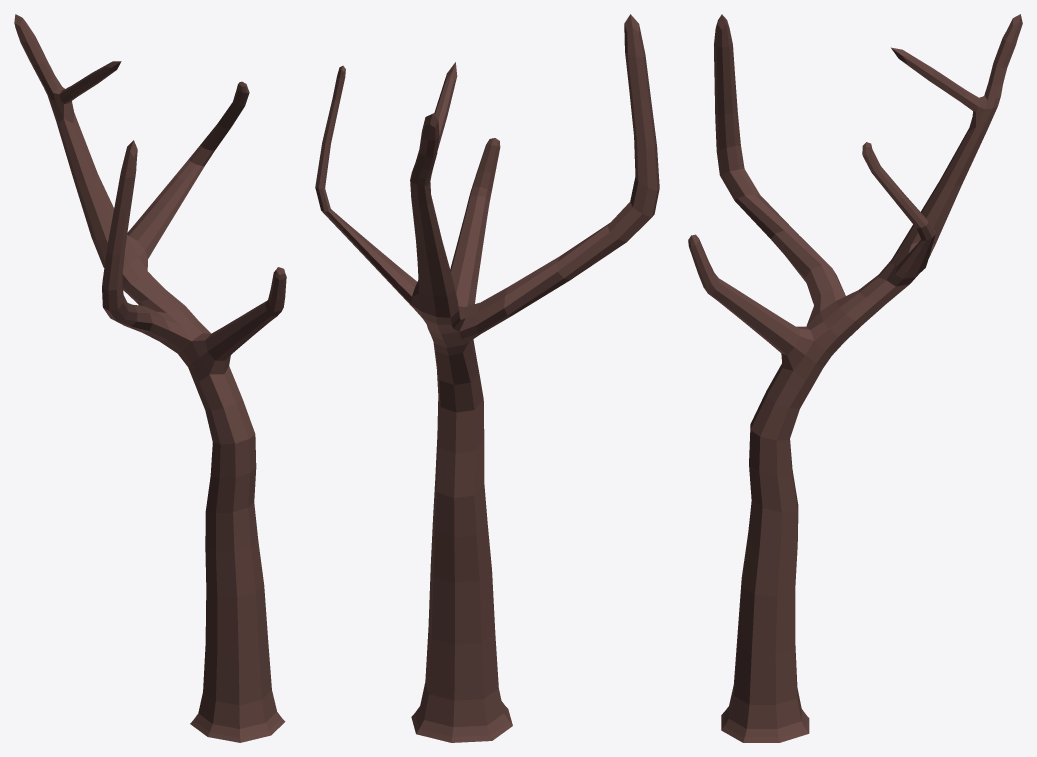
Rendered from CommonTree_Dead_4-transformed.glb.
The picture shows the model from 3 angles, left to right: view 1: azimuth 30°, elevation 25°; view 2: azimuth 150°, elevation 25°; view 3: azimuth 270°, elevation 25°; orthographic projection. The views are drawn at different scales.
Parts seen in each view (by area): view 1: CommonTree_Dead_4; view 2: CommonTree_Dead_4; view 3: CommonTree_Dead_4.
Boxes of the visible parts, bbox=[...] form: CommonTree_Dead_4: bbox=[14, 14, 286, 742]; CommonTree_Dead_4: bbox=[315, 14, 659, 742]; CommonTree_Dead_4: bbox=[688, 14, 1022, 742].
Bounding box in the file's own units: 0.816 × 2.37 × 1.08.
